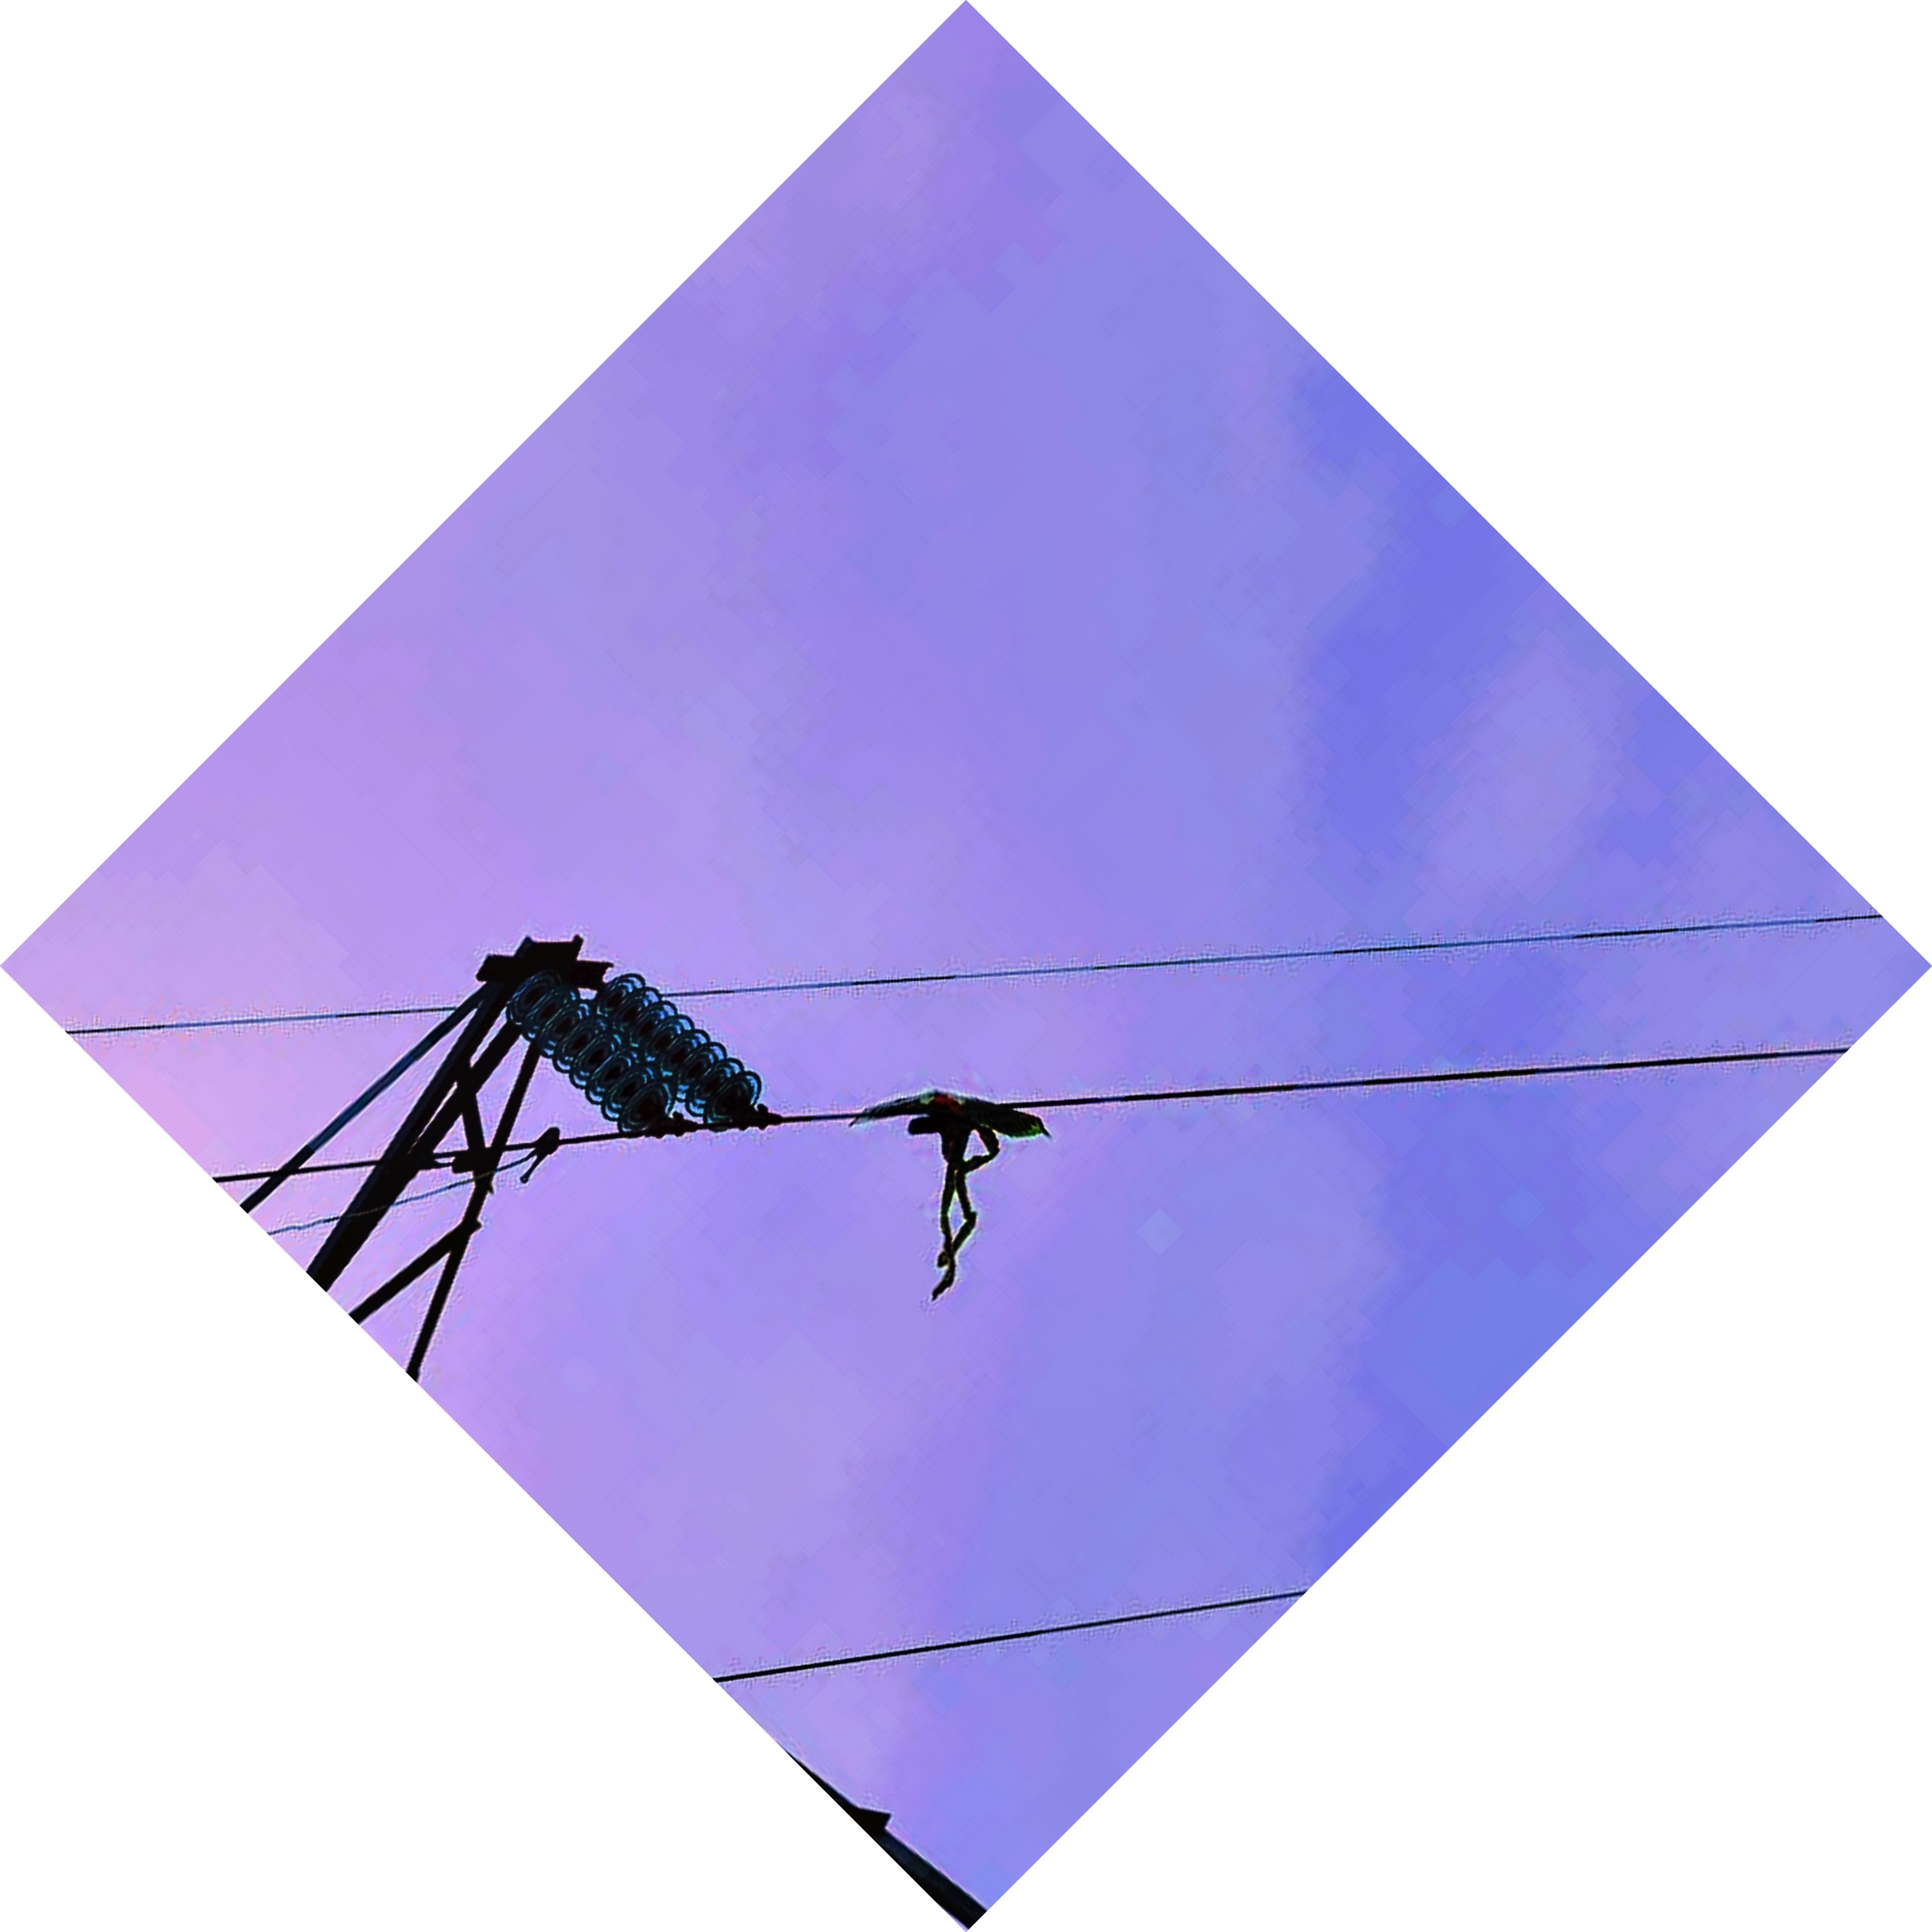wire foreign body: (840, 1056, 1072, 1299)
